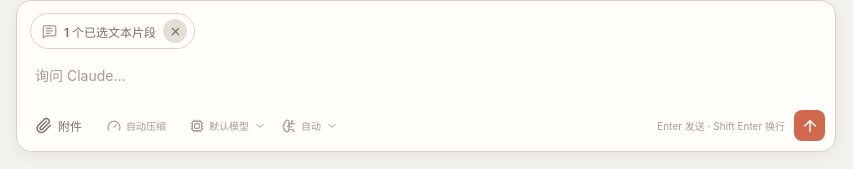
Scenario: ChatComposer attachments › shows selected code as a compact capsule and sends the structured fragments
expect the element with class "snippet-capsule" reads "1 个已选文本片段": met, box [64,24,156,40]
Click the button with class "send-button".
click(810, 126)  # box [794,110,825,141]
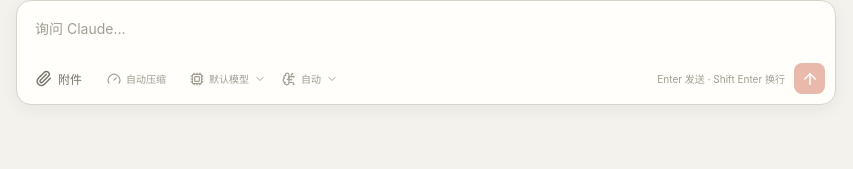
expect the element with class "snippet-capsule" is gone: met
